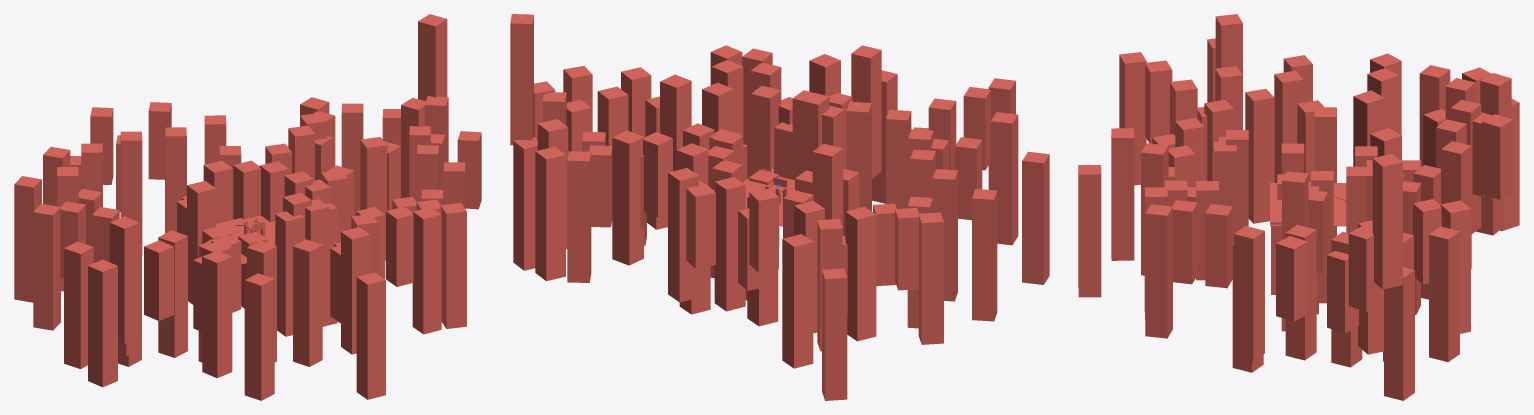
3 views of the same model, side by side, from view 1: azimuth 30°, elevation 25°; view 2: azimuth 150°, elevation 25°; view 3: azimuth 270°, elevation 25° (orthographic). The views are drawn at different scales.
Visible parts, largest first — view 1: Cube.054, Cube.073, Cube.056, Cube.074, Cube.053, Cube.055, Cube.041, Cube.091, Cube.052, Cube.071, Cube.042, Cube.057 (+53 smaller); view 2: Cube.103, Cube.079, Cube.104, Cube.092, Cube.053, Cube.071, Cube.042, Cube.052, Cube.100, Cube.041, Cube.068, Cube.101 (+55 smaller); view 3: Cube.079, Cube.082, Cube.067, Cube.080, Cube.091, Cube.069, Cube.056, Cube.057, Cube.098, Cube.085, Cube.054, Cube.083 (+53 smaller).
Part boxes in pixels (<box>): Cube.054: <box>202,250,232,378</box>; Cube.073: <box>244,273,274,400</box>; Cube.056: <box>356,272,385,399</box>; Cube.074: <box>293,239,322,366</box>; Cube.053: <box>88,259,117,387</box>; Cube.055: <box>412,207,441,334</box>; Cube.041: <box>33,204,60,330</box>; Cube.091: <box>440,203,466,328</box>; Cube.052: <box>109,216,139,343</box>; Cube.071: <box>64,241,93,368</box>; Cube.042: <box>14,176,41,302</box>; Cube.057: <box>341,227,369,354</box>; Cube.103: <box>782,234,813,368</box>; Cube.079: <box>535,146,565,281</box>; Cube.104: <box>845,206,876,341</box>; Cube.092: <box>612,130,643,265</box>; Cube.053: <box>1022,151,1049,284</box>; Cube.071: <box>972,189,997,321</box>; Cube.042: <box>822,268,847,400</box>; Cube.052: <box>990,112,1018,245</box>; Cube.100: <box>714,177,745,311</box>; Cube.041: <box>918,212,943,344</box>; Cube.068: <box>567,151,591,282</box>; Cube.101: <box>668,168,698,302</box>; Cube.079: <box>1429,226,1459,362</box>; Cube.082: <box>1234,226,1264,361</box>; Cube.067: <box>1372,154,1402,289</box>; Cube.080: <box>1384,267,1414,400</box>; Cube.091: <box>1145,204,1172,338</box>; Cube.069: <box>1245,88,1274,223</box>; Cube.056: <box>1078,165,1101,297</box>; Cube.057: <box>1111,128,1134,260</box>; Cube.098: <box>1482,114,1513,199</box>; Cube.085: <box>1276,236,1307,321</box>; Cube.054: <box>1119,52,1146,185</box>; Cube.083: <box>1285,224,1316,360</box>.
Bounding box in the file's own units: 147 × 75.17 × 122.
